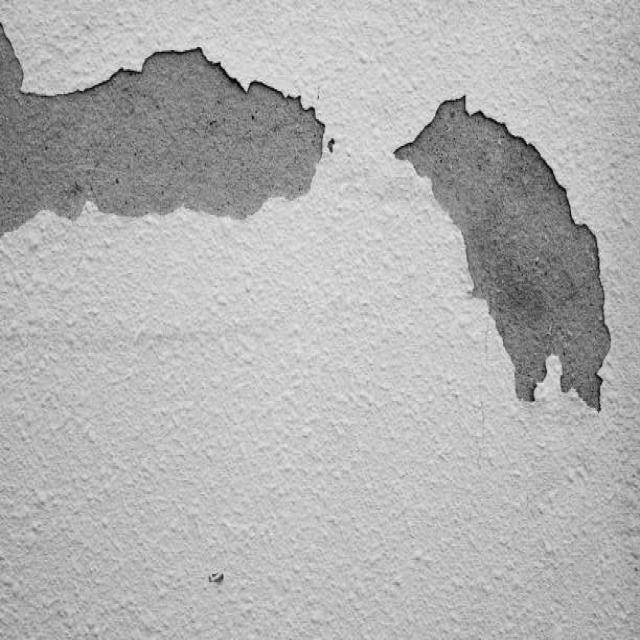peeling paint: (0, 0, 344, 253), (386, 80, 617, 443)
